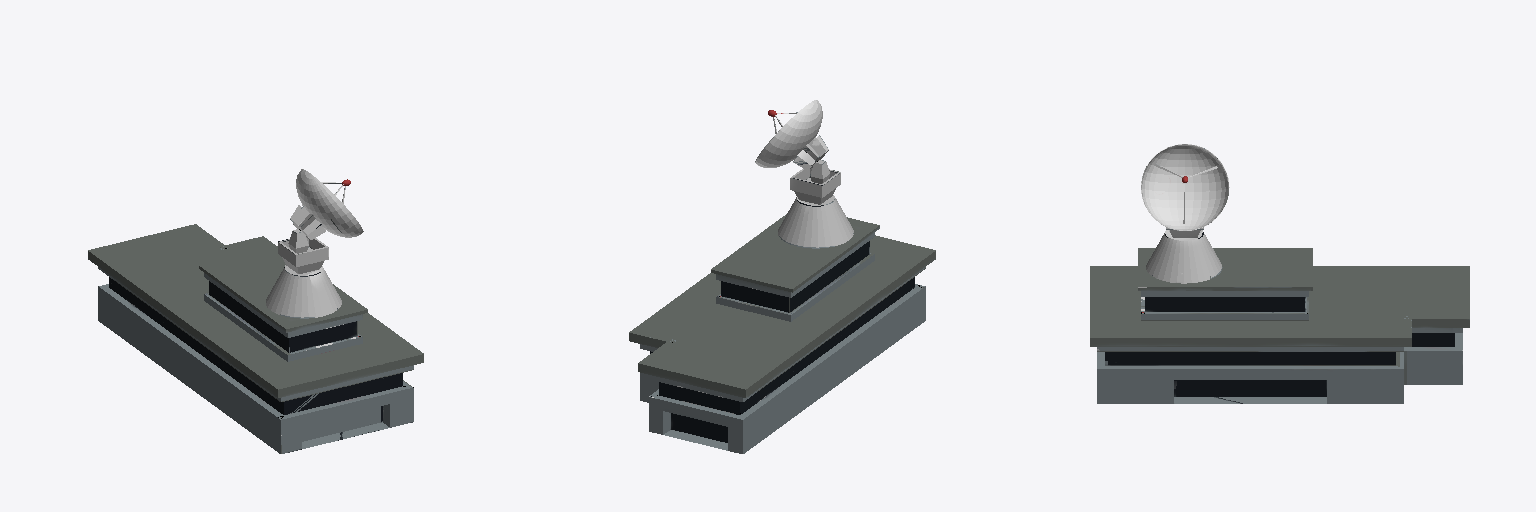
3 renders of one model, left to right at view 1: azimuth 30°, elevation 25°; view 2: azimuth 150°, elevation 25°; view 3: azimuth 270°, elevation 25°, orthographic.
Parts seen in each view (by area): view 1: Cube, 立方体, 立方体.002_立方体.001; view 2: Cube, 立方体, 立方体.002_立方体.001; view 3: Cube, 立方体, 立方体.002_立方体.001.
Boxes of the visible parts, box(x1,y1,x2,y2) form: Cube: box(88, 224, 423, 453); 立方体: box(199, 246, 367, 361); 立方体.002_立方体.001: box(266, 169, 363, 318); Cube: box(629, 235, 935, 453); 立方体: box(711, 214, 879, 321); 立方体.002_立方体.001: box(755, 100, 853, 248); Cube: box(1090, 266, 1469, 403); 立方体: box(1138, 248, 1312, 320); 立方体.002_立方体.001: box(1141, 144, 1229, 283).
Size of the model in its own units: 6.61 by 9.99 by 14.91.
3 materials, 1 textured.